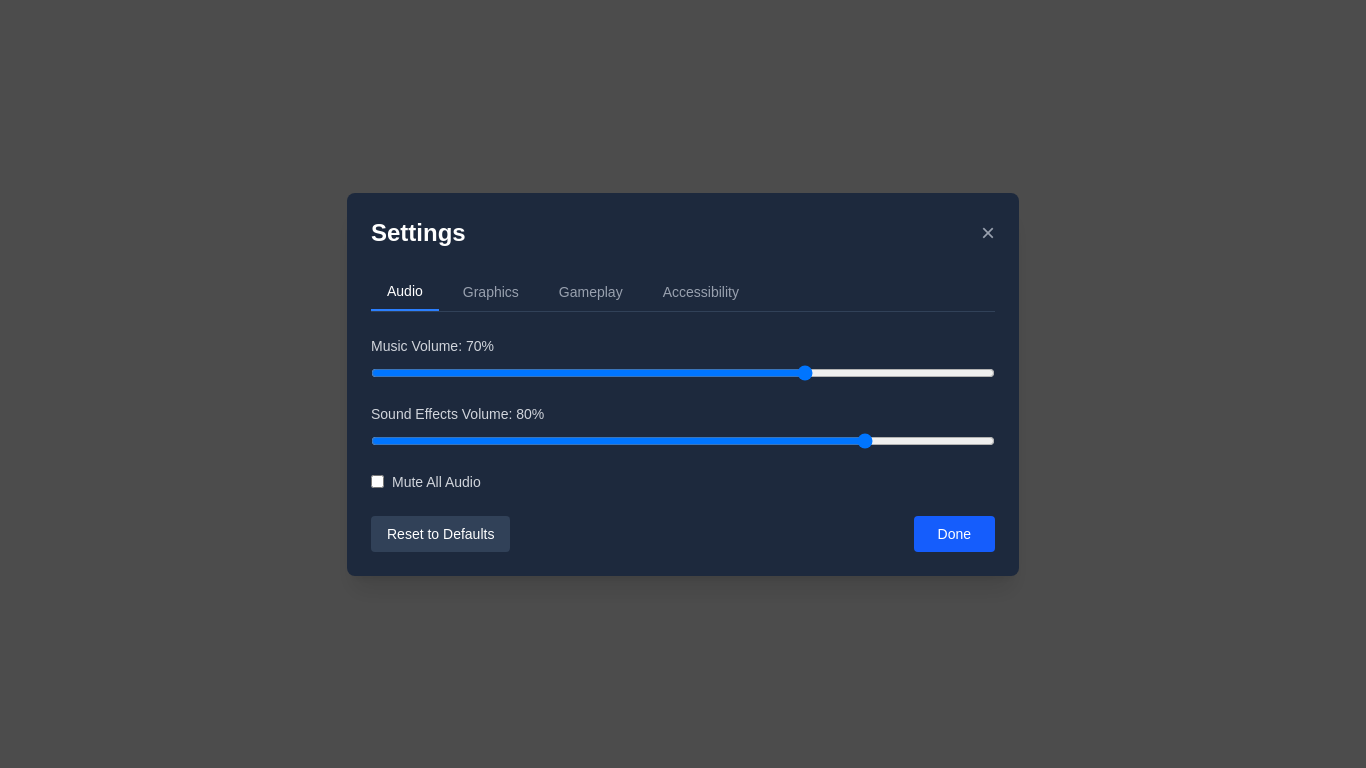
SettingsModal › should switch to gameplay tab when clicked
The image size is (1366, 768).
Click the button "gameplay".
click(591, 292)  # box x1=543 y1=272 x2=639 y2=310
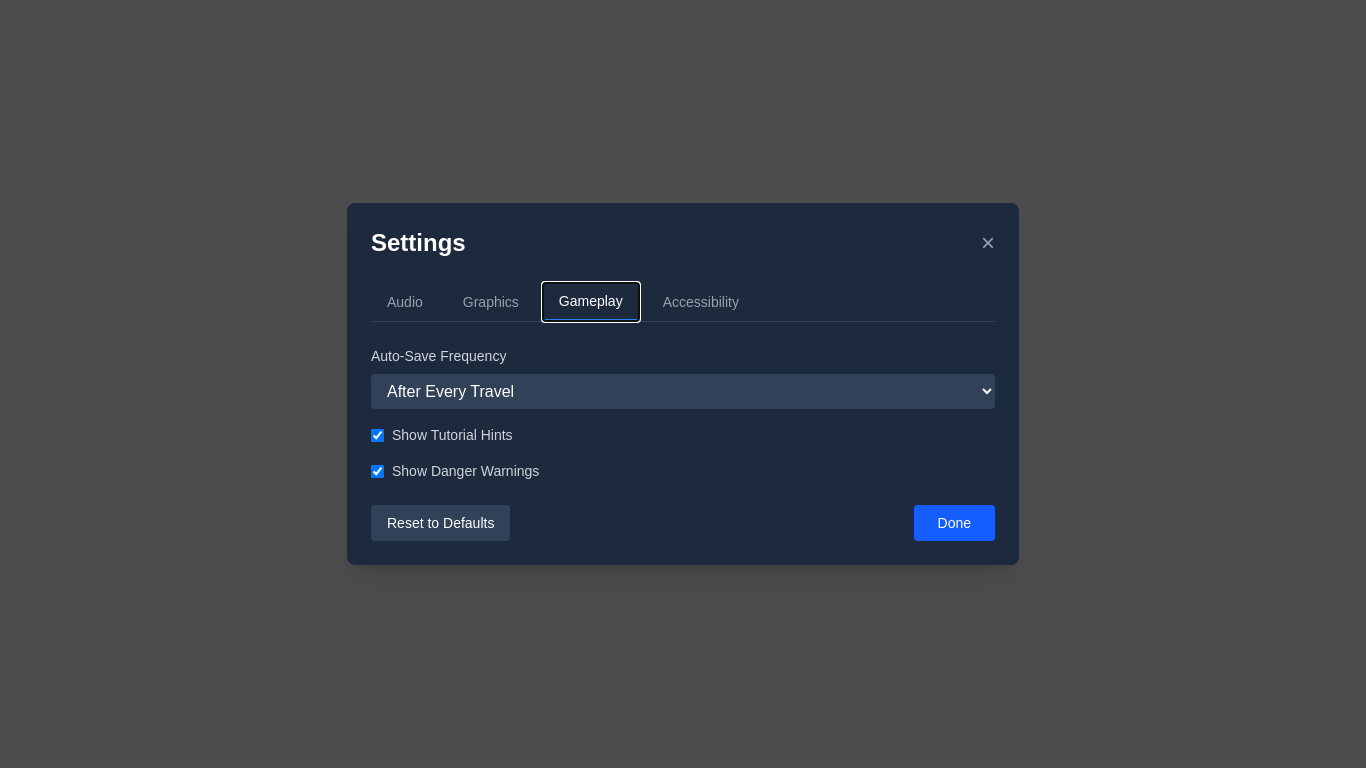
Expected: the text "Auto-Save Frequency" is shown, x1=371 y1=348 x2=506 y2=364
Expected: the checkbox labelled "Show Tutorial Hints" is shown, x1=371 y1=428 x2=384 y2=442
